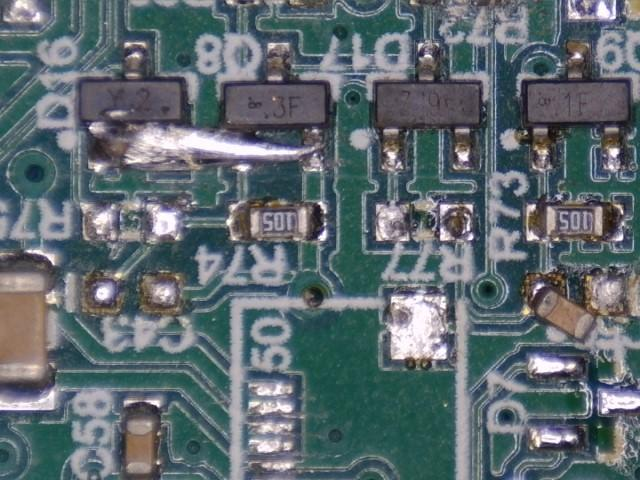Incorrect_installation: (525, 274, 626, 343)
Short_circuit: (91, 122, 316, 172)
